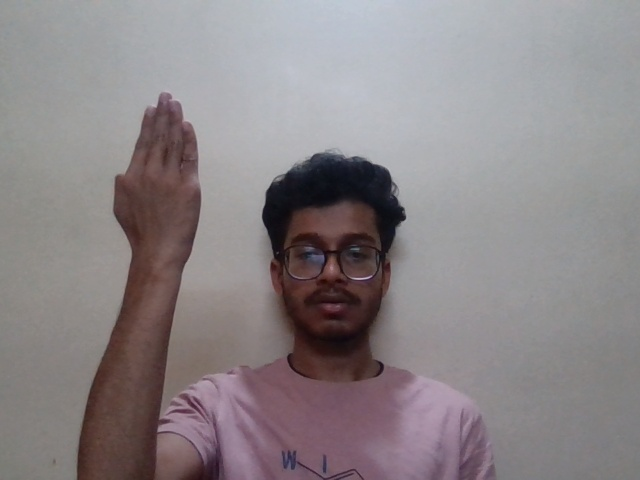good-bye: (108, 91, 227, 280)
